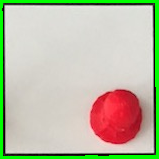Red Pawn: (87, 83, 147, 147)
